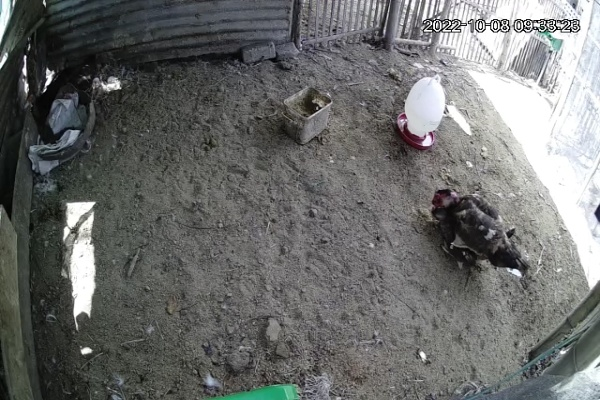Kawin: (417, 169, 533, 293)
